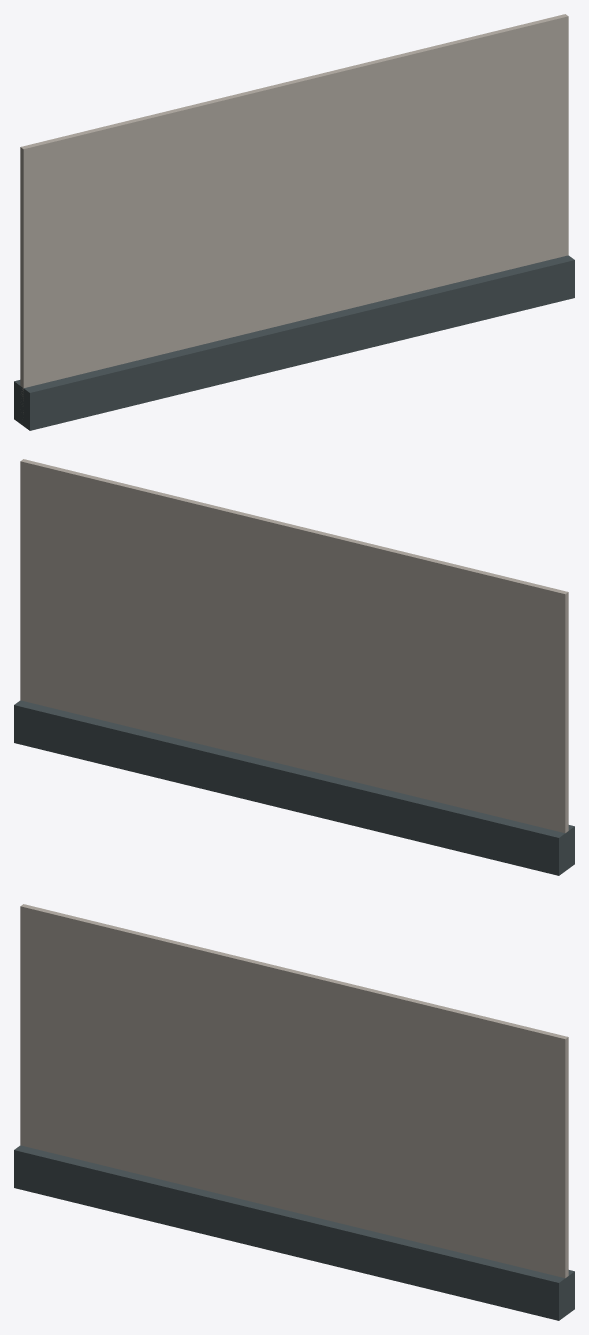
The model's file is Wall_05.fbx.
The picture shows the model from 3 angles, top to bottom: view 1: azimuth 30°, elevation 25°; view 2: azimuth 150°, elevation 25°; view 3: azimuth 330°, elevation 25°; orthographic projection.
Visible parts, largest first — view 1: Wall_05; view 2: Wall_05; view 3: Wall_05.
Part boxes in pixels (left/top/right/bottom): Wall_05: left=14, top=14, right=574, bottom=430; Wall_05: left=14, top=459, right=574, bottom=875; Wall_05: left=14, top=904, right=574, bottom=1320.
Bounding box in the file's own units: 575 × 279 × 29.21.
